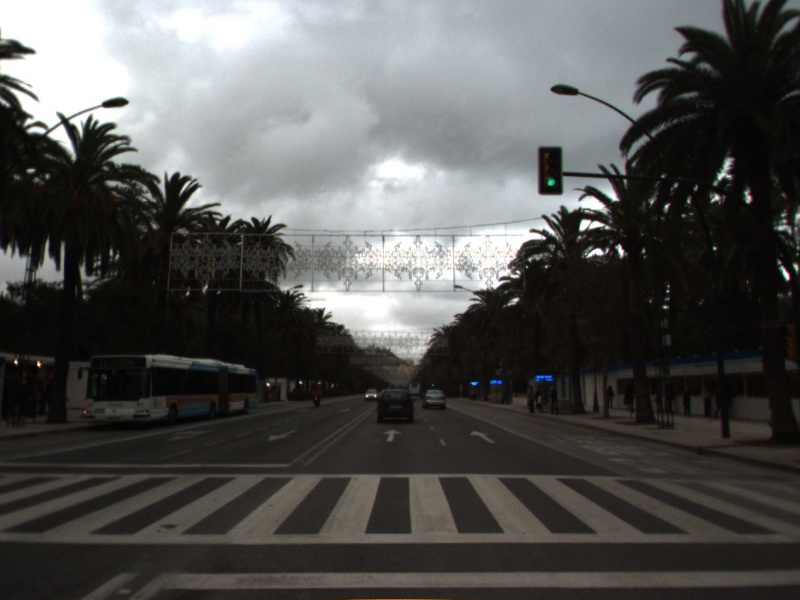STRAIGHT: (467, 428, 498, 445), (380, 427, 404, 443)
